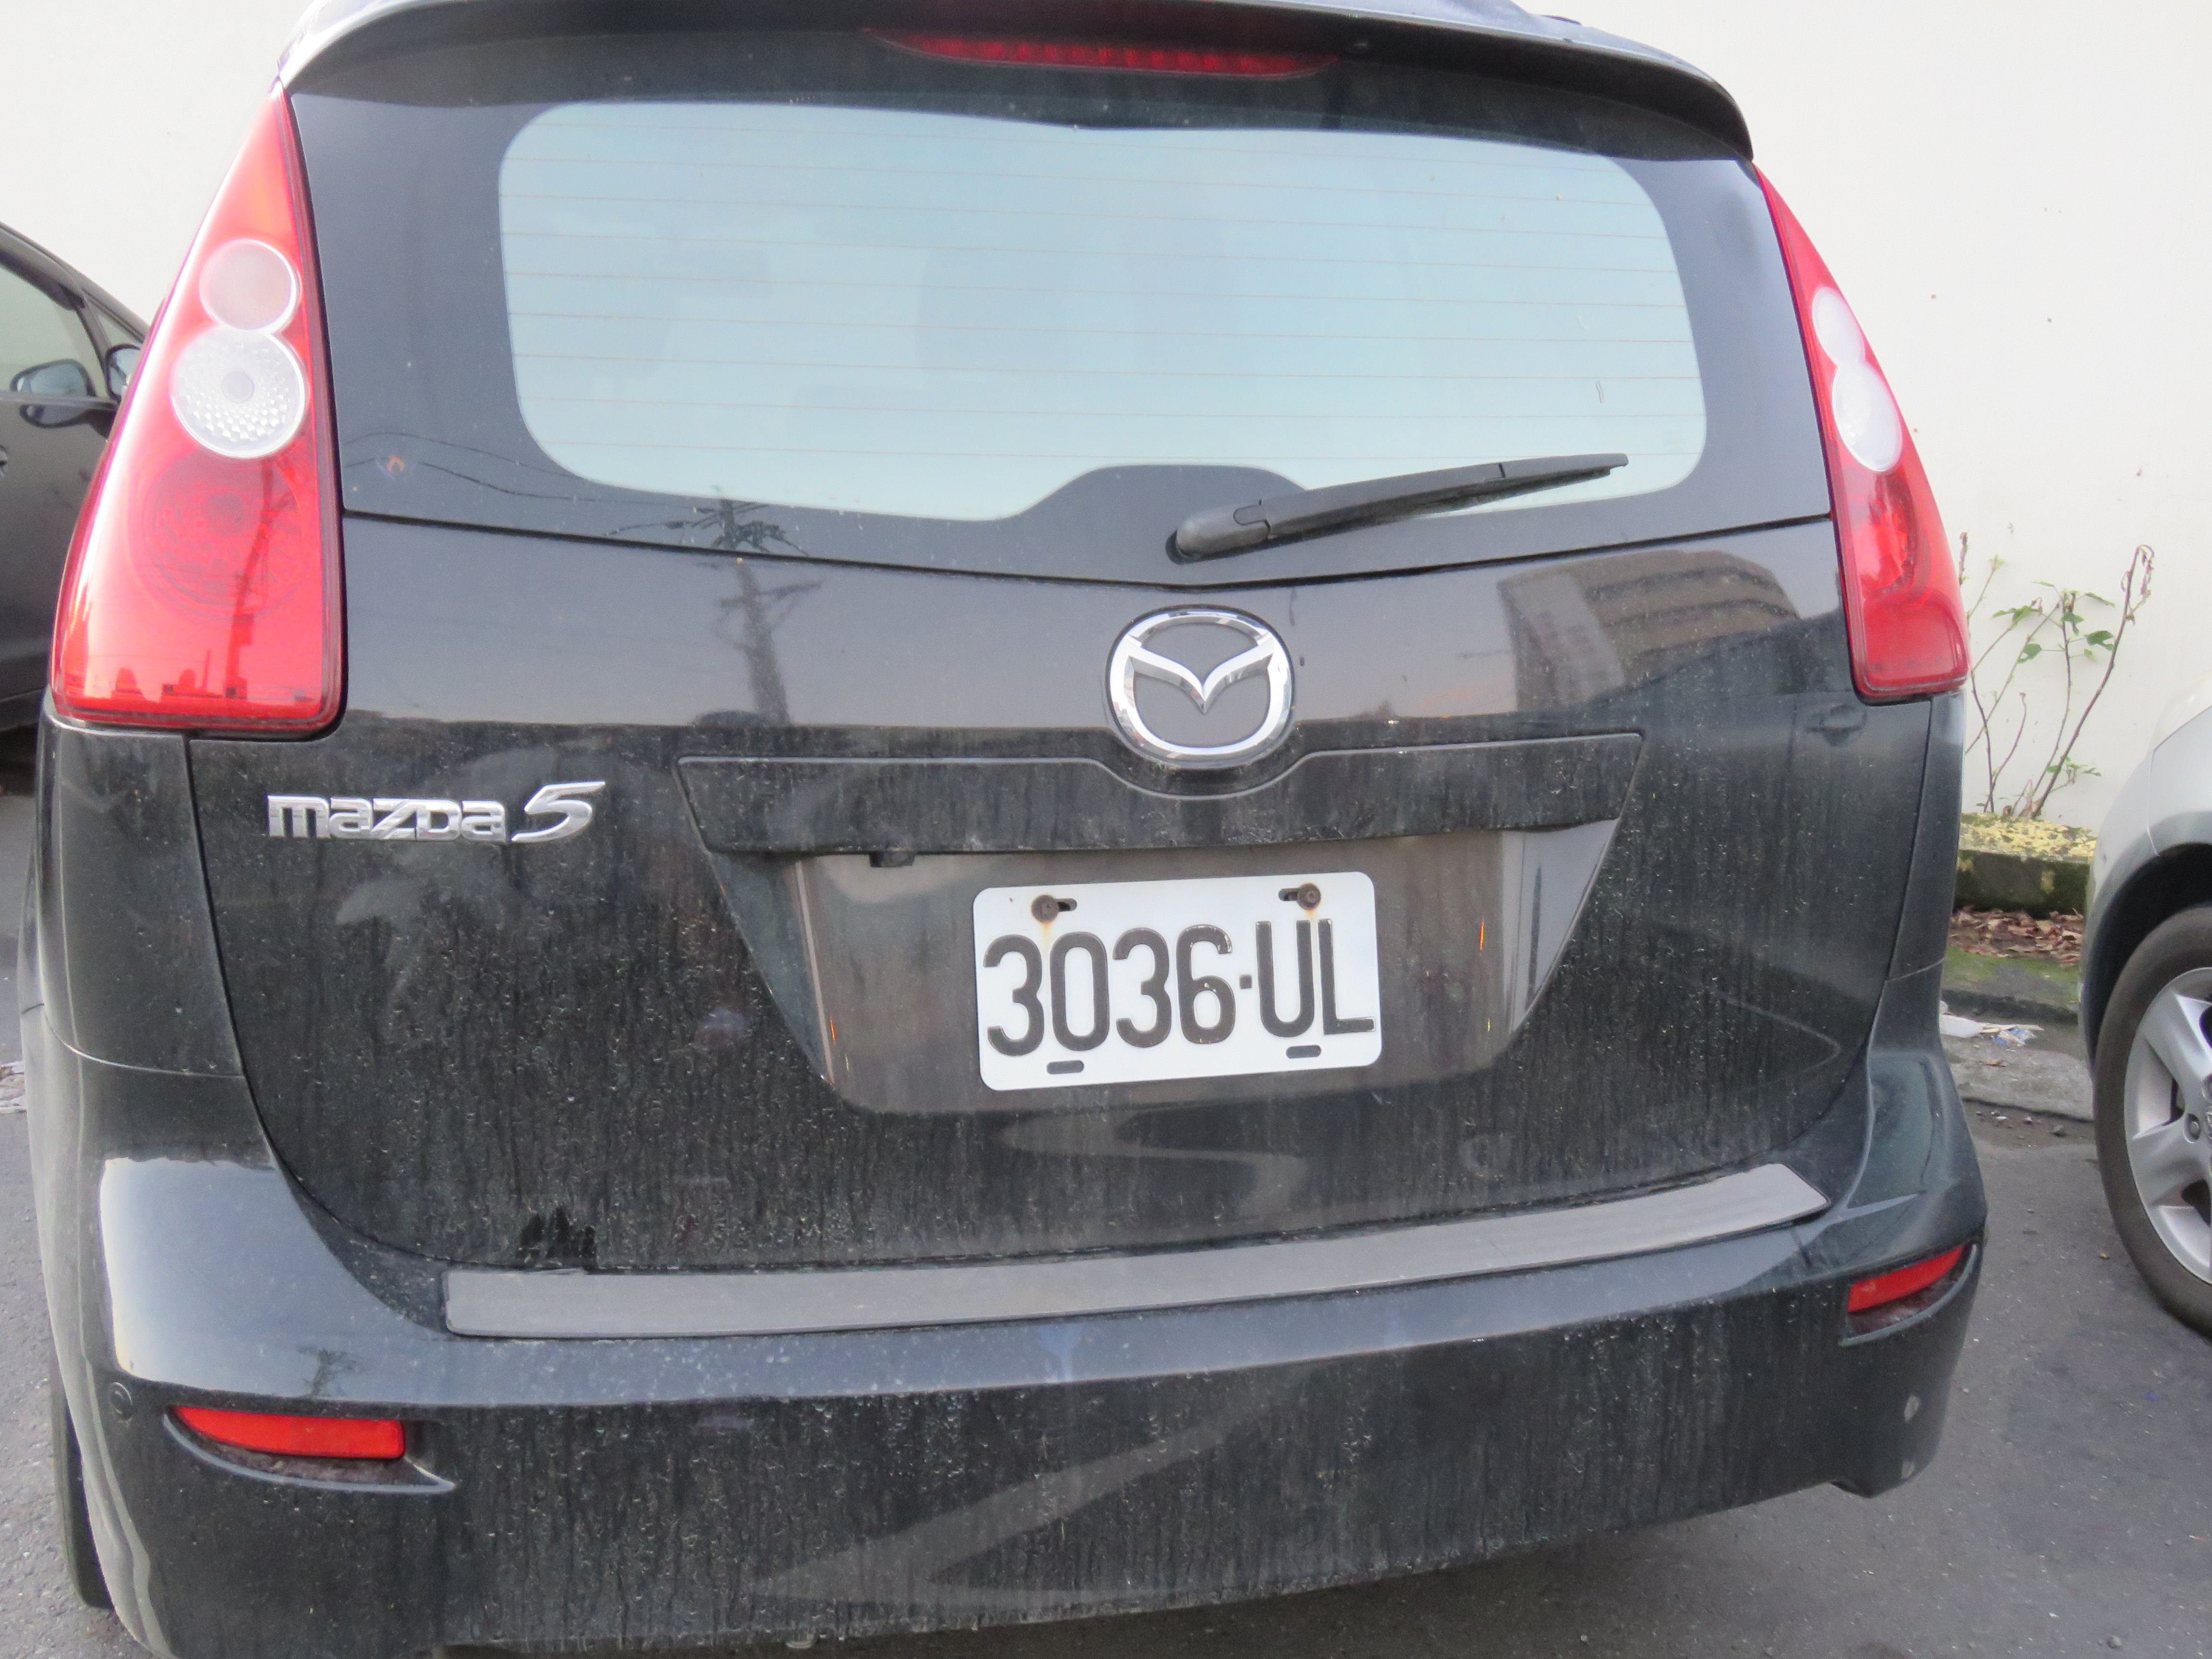car: (31, 0, 1982, 1659)
car_card: (974, 880, 1392, 1094)
